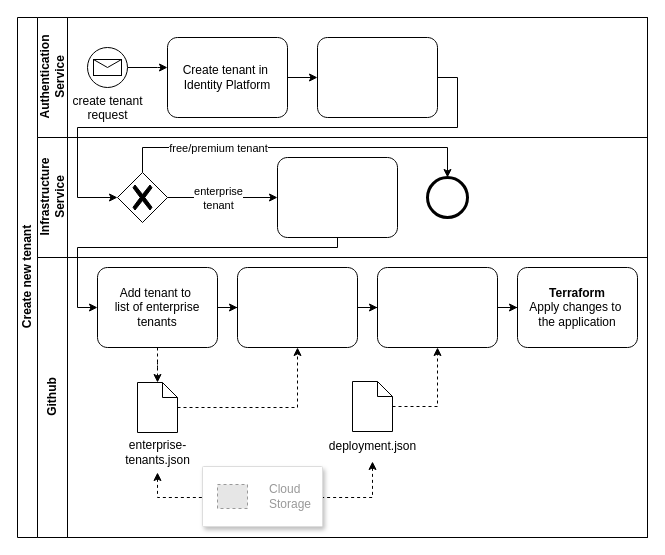
Some shapes in this 665 by 555 pixel diagram are drawn without their labels. Grey dashed boxes stand in for pictures. The centre of each missing label's shape, as x and y in pixels:
Create admin user in Identity Platform: the point at 377,77
Dispatch workflow in GitHub: the point at 337,197
Fetch deployment info: the point at 437,307
Fetch list of enterprise tenants: the point at 297,307
